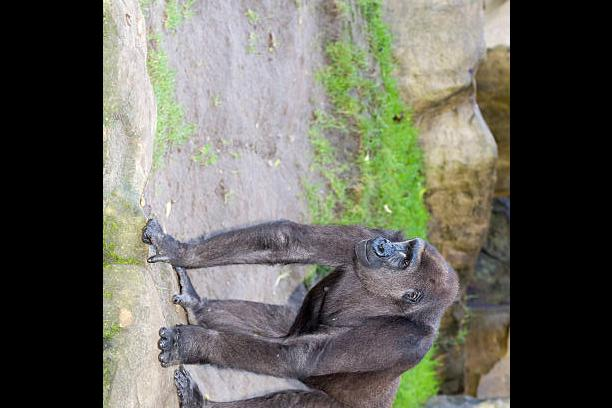gorille_Autres: (102, 149, 503, 408)
